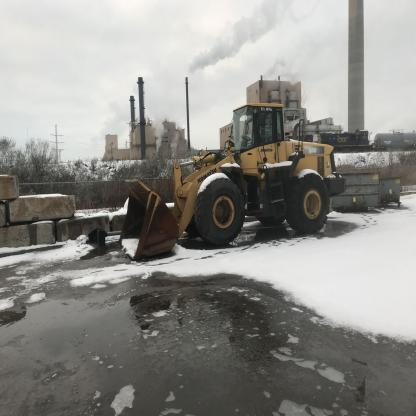bull_dozer/loader/grader: (118, 100, 349, 270)
